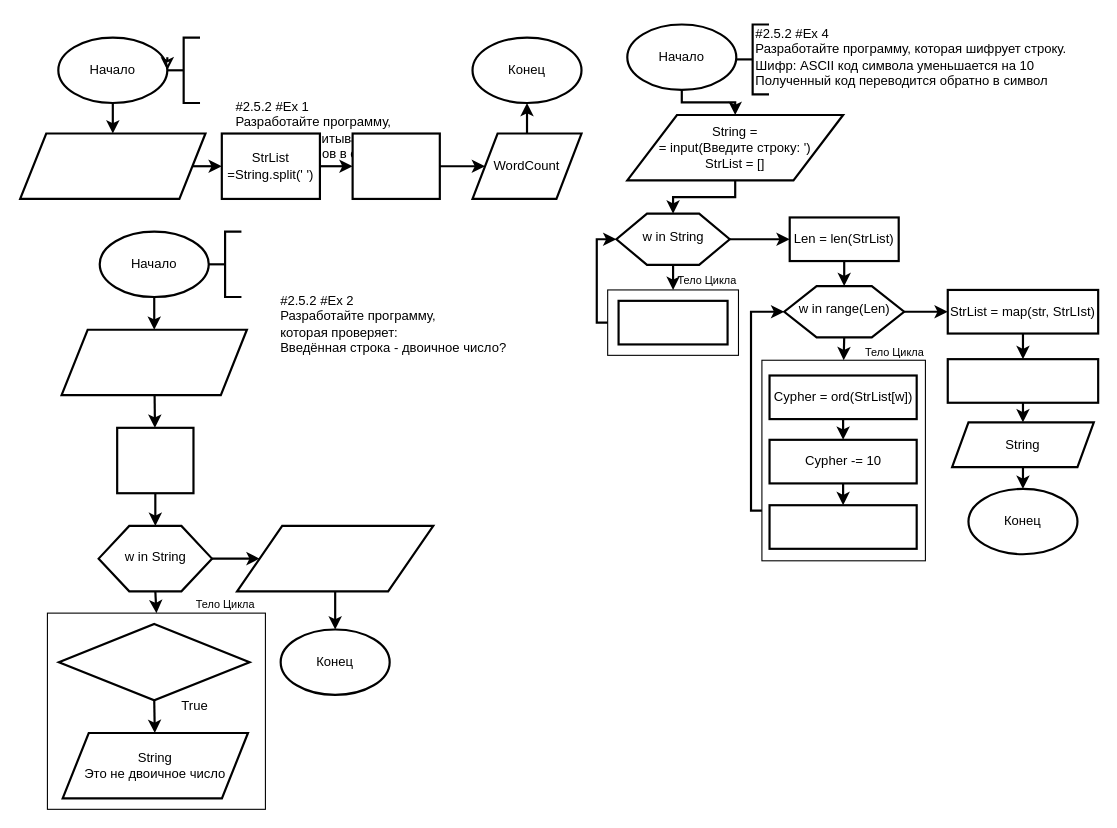
This 1117x828 diagram has some shape labels left out. Here are the shapes that lost their labels. From the top down, the box of each, then its label:
(19, 132, 206, 199): String = =input('Введите строку: ')
(351, 132, 440, 199): WordCount = len(StrList)
(617, 299, 728, 345): StrList.append(w)
(60, 328, 247, 396): String = input('Введите строку: ')
(946, 358, 1099, 403): String = ''.join(StrList)
(116, 426, 194, 494): Nums='10'
(768, 504, 917, 549): StrList[w] = chr(Cypher)
(235, 524, 434, 592): String Это двоичное число
(57, 622, 250, 701): w not in Nums
